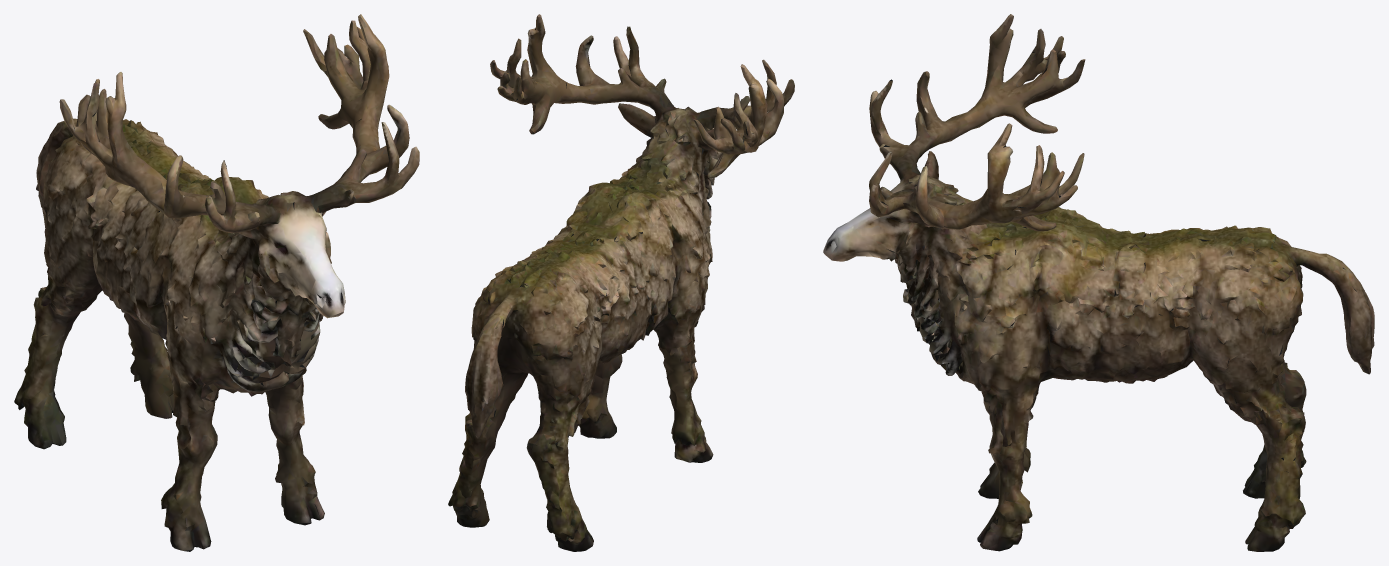
The model's file is antler-king.glb.
3 views of the same model, side by side, from view 1: azimuth 30°, elevation 25°; view 2: azimuth 150°, elevation 25°; view 3: azimuth 270°, elevation 25° (orthographic). The views are drawn at different scales.
Parts seen in each view (by area): view 1: antler-king; view 2: antler-king; view 3: antler-king.
Part boxes in pixels (x1,y1,x2,y2): antler-king: (14,14,419,551); antler-king: (448,14,794,551); antler-king: (823,14,1374,551).
Bounding box in the file's own units: 2.4 × 3.6 × 4.
Materials: 1 (1 with a texture image).
